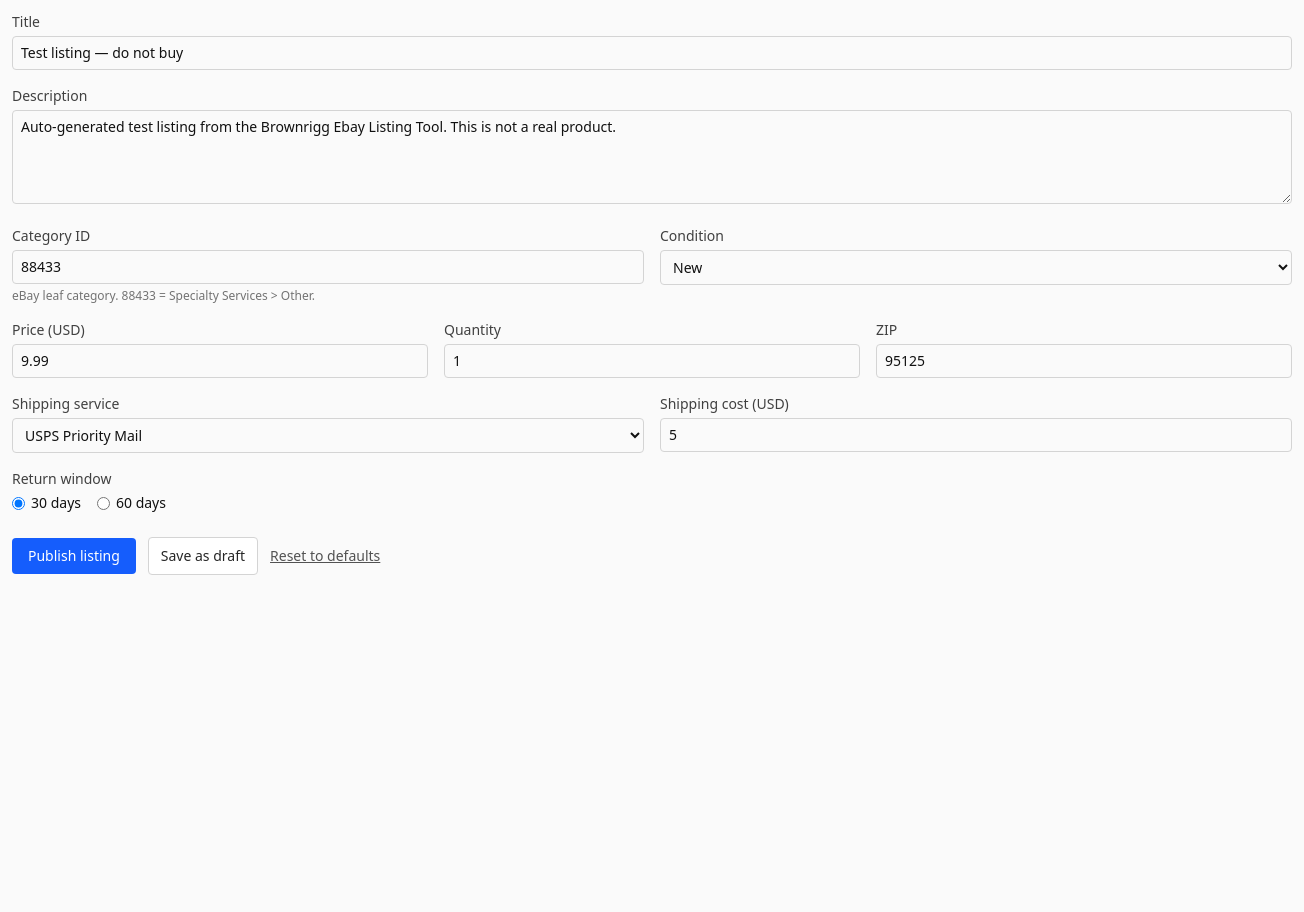
Scenario: ListingForm › renders the eBay failure panel on Ack=Failure response
What coordinates should you click on to do the following:
click the button with test id "publish-button"
I would click on:
 (74, 556)
Its box is top-left (12, 538), bottom-right (136, 574).
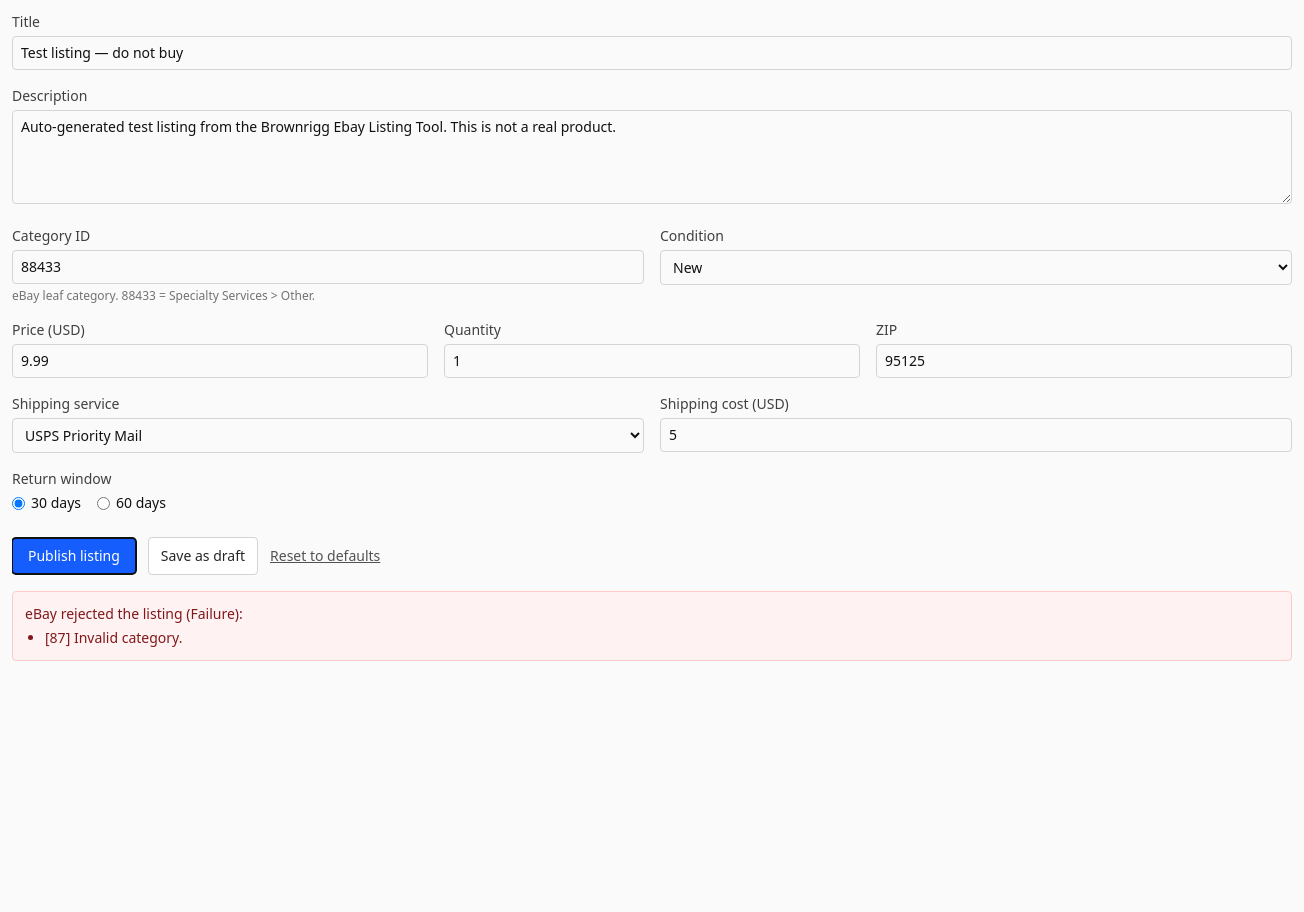
expect the message "eBay rejected the listing (Failure): [87] Invalid category." is shown: met, box top-left (12, 591), bottom-right (1292, 661)
expect the list item "[87] Invalid category." is shown: met, box top-left (45, 628), bottom-right (182, 647)
